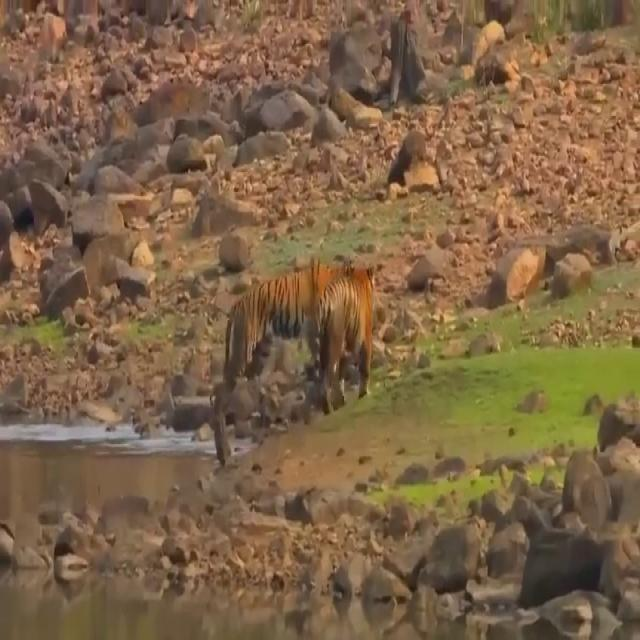tiger: (209, 260, 363, 408), (314, 261, 355, 415)
